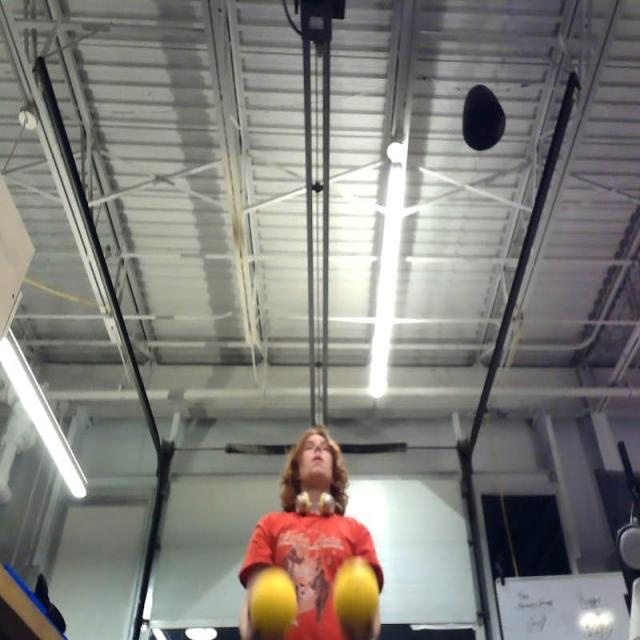Fuel: (250, 568, 298, 634), (334, 561, 379, 624)
